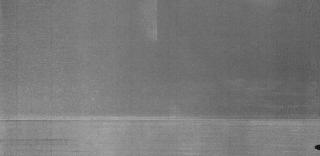punching hole: (312, 144, 320, 150)
welding line: (2, 114, 320, 128)
